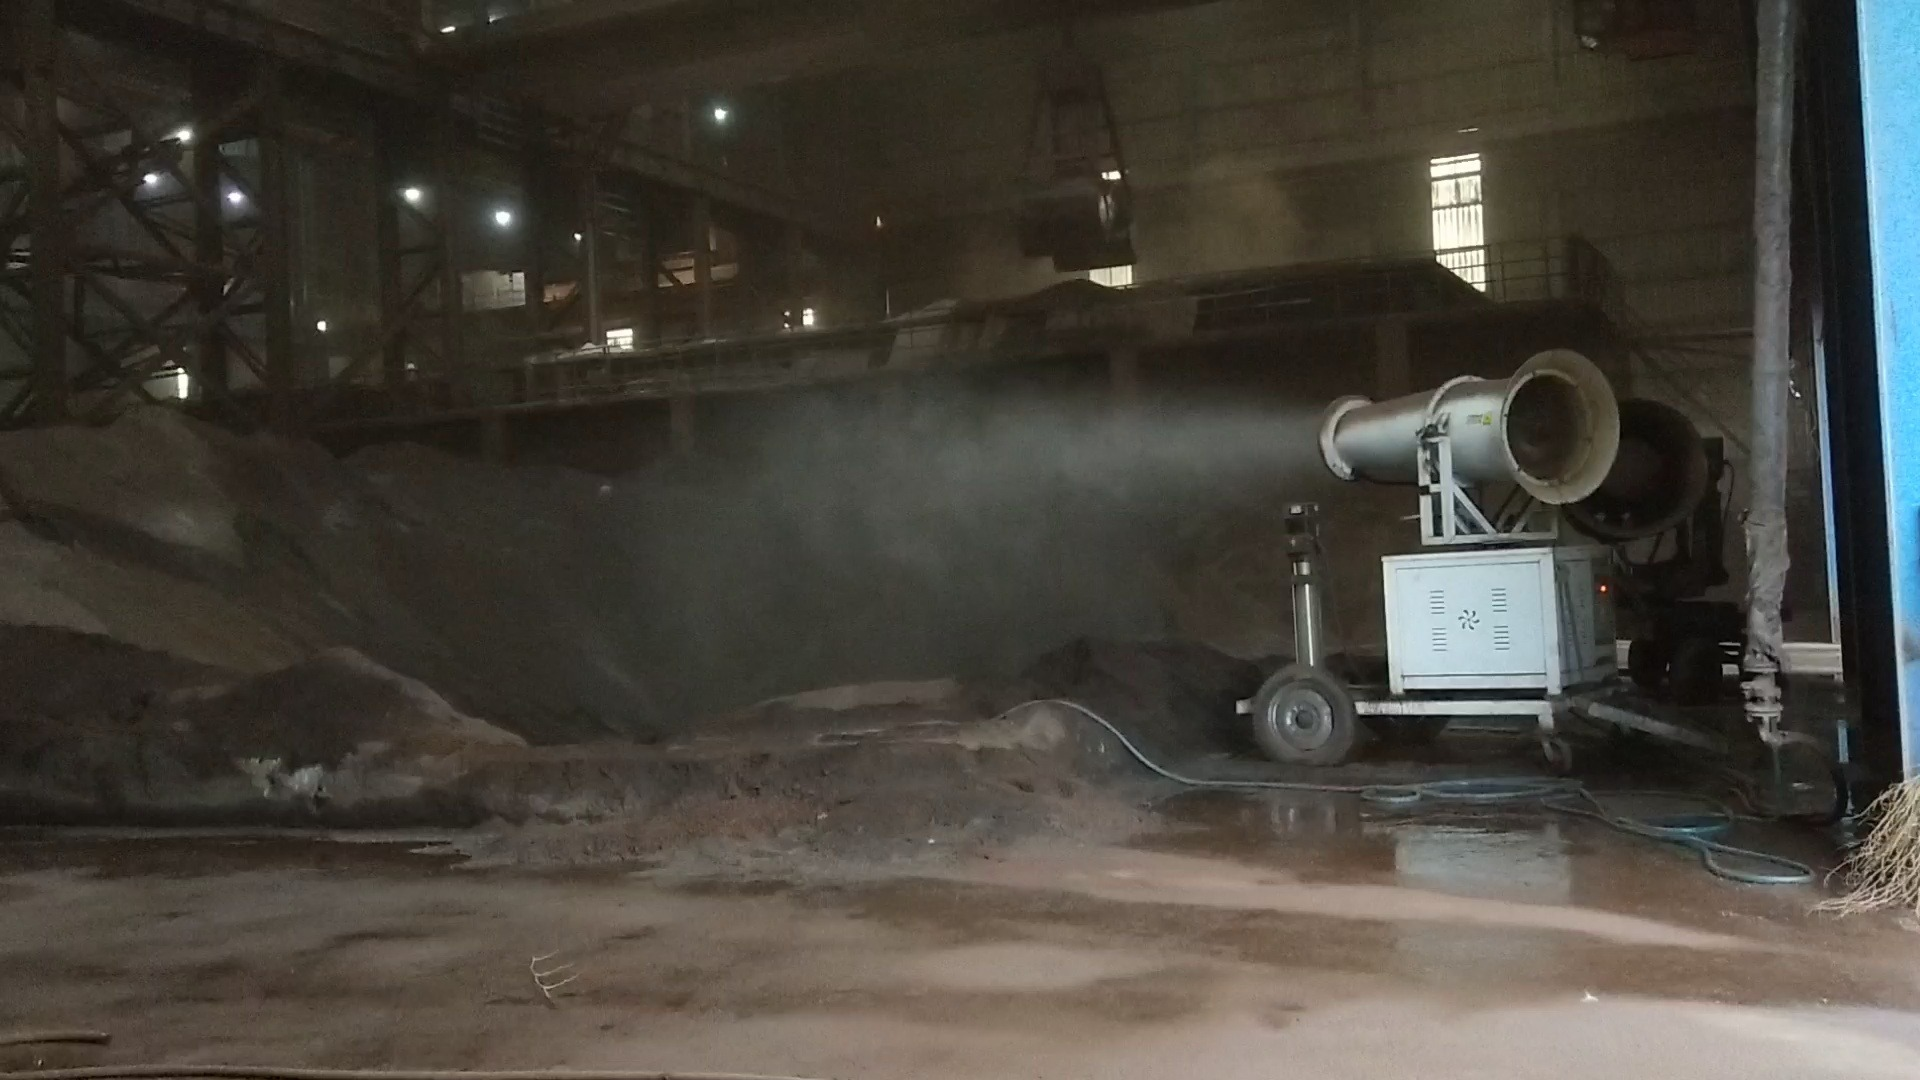dust: (425, 343, 1299, 680)
grab: (998, 40, 1154, 280)
